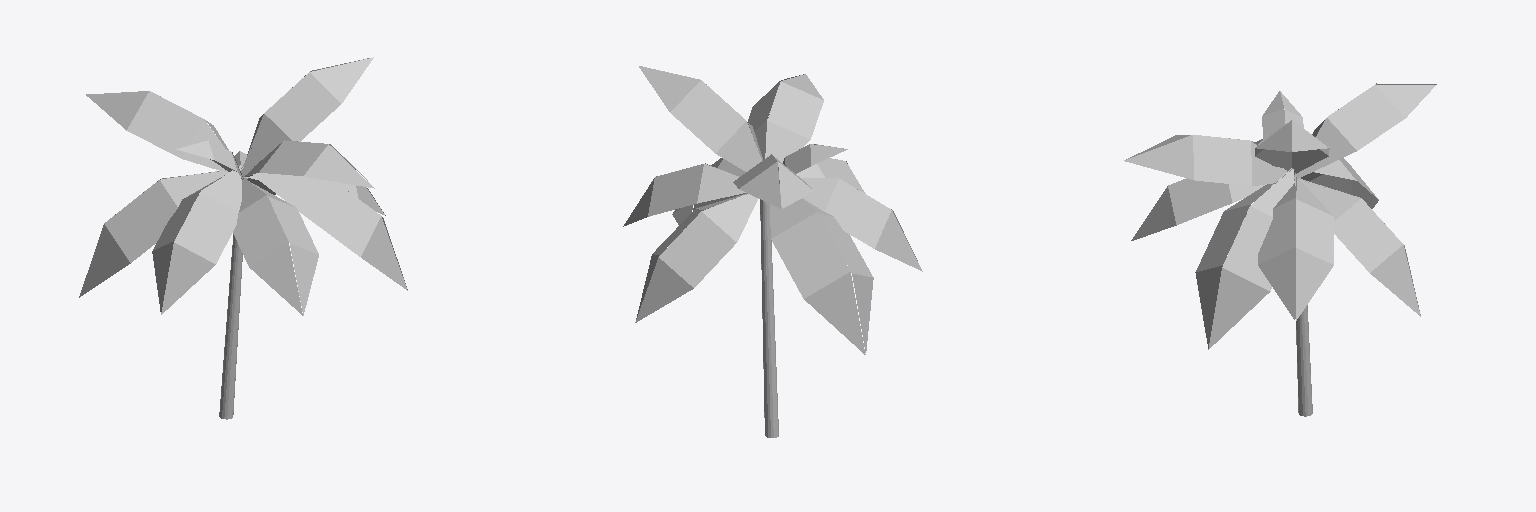
The model's file is _palmtree.obj.
The picture shows the model from 3 angles: view 1: azimuth 30°, elevation 25°; view 2: azimuth 150°, elevation 25°; view 3: azimuth 270°, elevation 25°; orthographic projection.
Size of the model in its own units: 21.66 by 24.95 by 21.4.